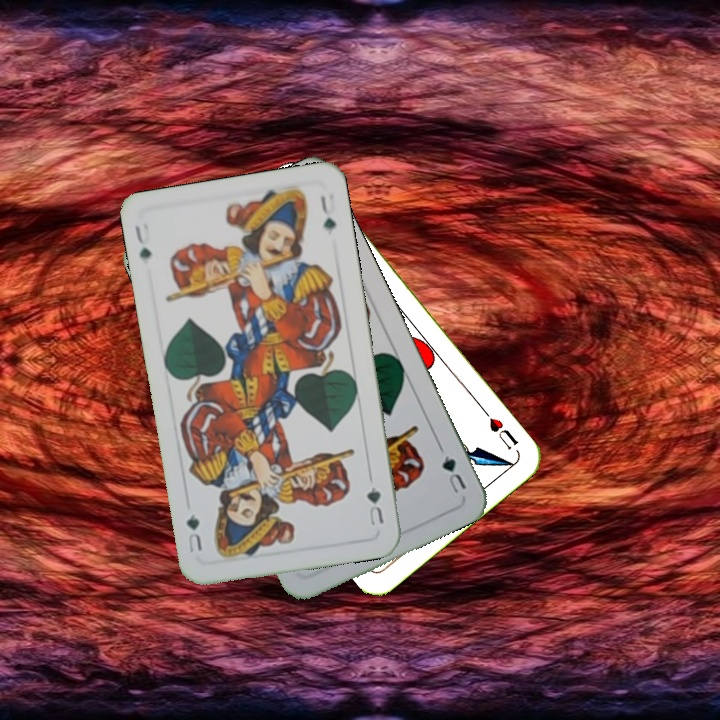GU: (438, 451, 469, 496), (362, 482, 387, 529), (130, 219, 154, 261)
HU: (479, 405, 521, 453)
